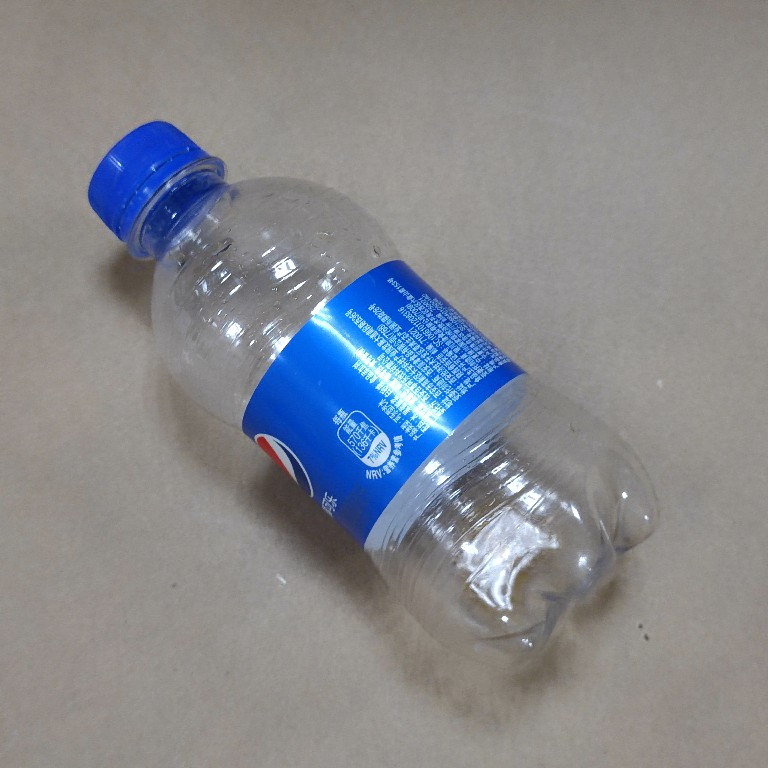bottle: (85, 116, 664, 662)
